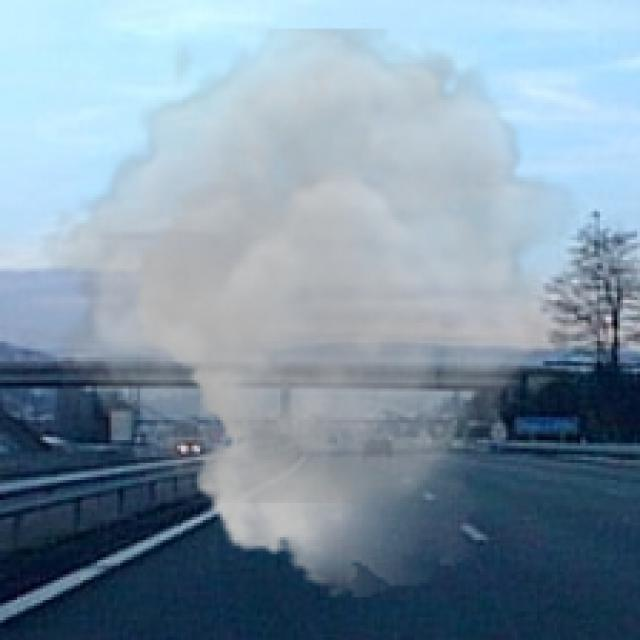Smoke: (37, 29, 580, 598)
